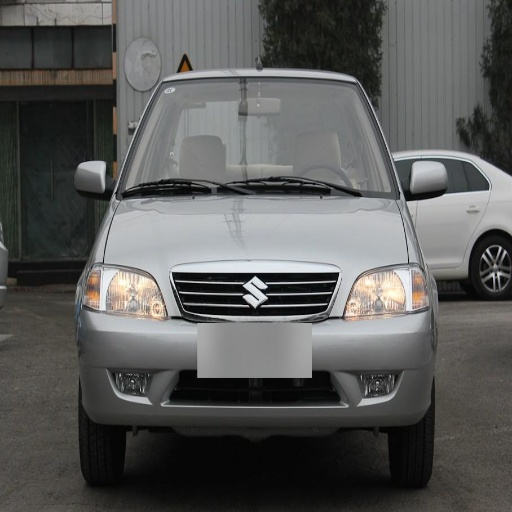front_bumper: (77, 262, 432, 435)
front_right_light: (80, 262, 169, 320)
hood: (107, 199, 408, 311)
left_mirror: (405, 160, 447, 200)
